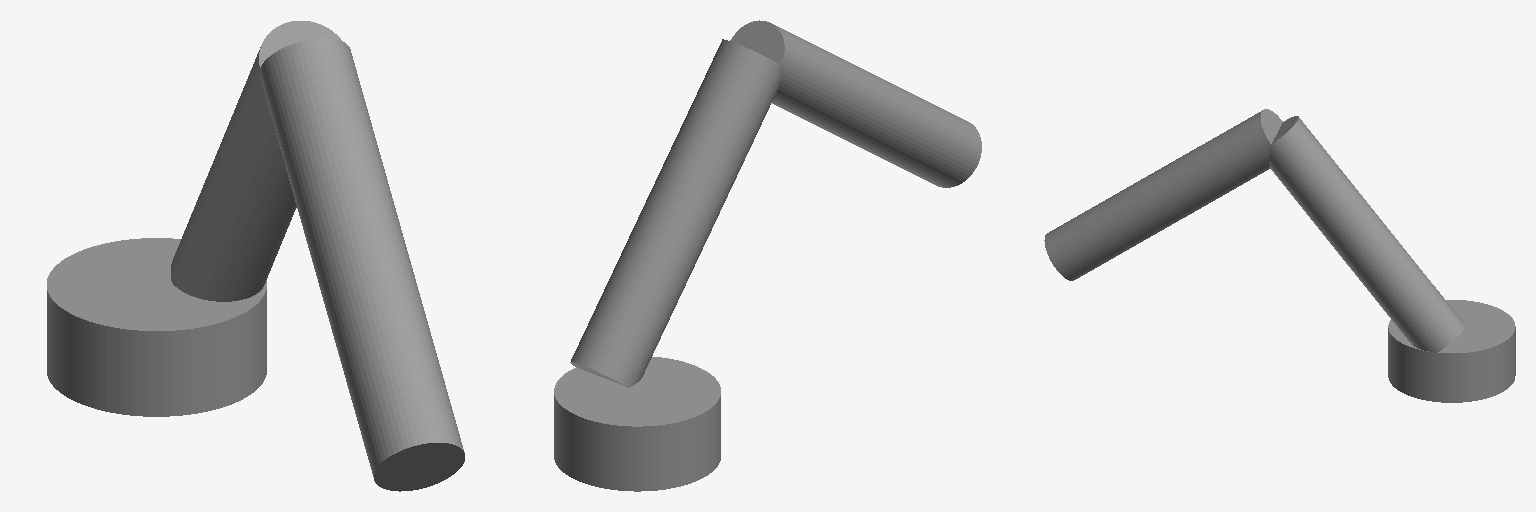
URDF robot description (arm_2_v10):
<?xml version="1.0" ?>
<!-- =================================================================================== -->
<!-- |    This document was autogenerated by xacro from /home/hao/Ubuntu_2/ROS_practice/ros2_ws/src/gazebo_simulator/models/arm_2_v10/urdf/arm_2_v10.xacro | -->
<!-- |    EDITING THIS FILE BY HAND IS NOT RECOMMENDED                                 | -->
<!-- =================================================================================== -->
<robot name="arm_2_v10">
  <material name="silver_default">
    <color rgba="0.700 0.700 0.700 1.000"/>
  </material>
  <material name="_">
    <color rgba="0.6274509803921569 0.6274509803921569 0.6274509803921569 1.0"/>
  </material>
  <transmission name="motor_1_tran">
    <type>transmission_interface/SimpleTransmission</type>
    <joint name="motor_1">
      <hardwareInterface>hardware_interface/EffortJointInterface</hardwareInterface>
    </joint>
    <actuator name="motor_1_actr">
      <hardwareInterface>hardware_interface/EffortJointInterface</hardwareInterface>
      <mechanicalReduction>1</mechanicalReduction>
    </actuator>
  </transmission>
  <transmission name="motor_2_tran">
    <type>transmission_interface/SimpleTransmission</type>
    <joint name="motor_2">
      <hardwareInterface>hardware_interface/EffortJointInterface</hardwareInterface>
    </joint>
    <actuator name="motor_2_actr">
      <hardwareInterface>hardware_interface/EffortJointInterface</hardwareInterface>
      <mechanicalReduction>1</mechanicalReduction>
    </actuator>
  </transmission>
  <transmission name="motor_3_tran">
    <type>transmission_interface/SimpleTransmission</type>
    <joint name="motor_3">
      <hardwareInterface>hardware_interface/EffortJointInterface</hardwareInterface>
    </joint>
    <actuator name="motor_3_actr">
      <hardwareInterface>hardware_interface/EffortJointInterface</hardwareInterface>
      <mechanicalReduction>1</mechanicalReduction>
    </actuator>
  </transmission>
  <link name="base_link">
    <inertial>
      <origin rpy="0 0 0" xyz="0.0 0.0 0.0025"/>
      <mass value="9.8125"/>
      <inertia ixx="0.204448" ixy="0.0" ixz="0.0" iyy="0.204448" iyz="0.0" izz="0.408854"/>
    </inertial>
    <visual>
      <origin rpy="0 0 0" xyz="0 0 0"/>
      <geometry>
        <mesh filename="package://arm_2_v10/meshes/base_link.stl" scale="0.001 0.001 0.001"/>
      </geometry>
      <material name="_"/>
    </visual>
    <collision>
      <origin rpy="0 0 0" xyz="0 0 0"/>
      <geometry>
        <mesh filename="package://arm_2_v10/meshes/base_link.stl" scale="0.001 0.001 0.001"/>
      </geometry>
    </collision>
  </link>
  <link name="arm_link_1_v2_1">
    <inertial>
      <origin rpy="0 0 0" xyz="-4.964936414250037e-18 -3.7238716991499854e-18 0.014999999999999996"/>
      <mass value="0.9063102106524854"/>
      <inertia ixx="0.000346" ixy="0.0" ixz="-0.0" iyy="0.000346" iyz="-0.0" izz="0.000555"/>
    </inertial>
    <visual>
      <origin rpy="0 0 0" xyz="-0.0 -0.0 -0.005"/>
      <geometry>
        <mesh filename="package://arm_2_v10/meshes/arm_link_1_v2_1.stl" scale="0.001 0.001 0.001"/>
      </geometry>
      <material name="_"/>
    </visual>
    <collision>
      <origin rpy="0 0 0" xyz="-0.0 -0.0 -0.005"/>
      <geometry>
        <mesh filename="package://arm_2_v10/meshes/arm_link_1_v2_1.stl" scale="0.001 0.001 0.001"/>
      </geometry>
    </collision>
  </link>
  <link name="arm_link_2_v5_1">
    <inertial>
      <origin rpy="0 0 0" xyz="-0.024950311282444234 -0.04260141994558462 0.05841732248118084"/>
      <mass value="0.8323257036604458"/>
      <inertia ixx="0.001579" ixy="-0.000127" ixz="0.000162" iyy="0.001041" iyz="0.000721" izz="0.000689"/>
    </inertial>
    <visual>
      <origin rpy="0 0 0" xyz="-0.034148 0.007676 -0.035"/>
      <geometry>
        <mesh filename="package://arm_2_v10/meshes/arm_link_2_v5_1.stl" scale="0.001 0.001 0.001"/>
      </geometry>
      <material name="_"/>
    </visual>
    <collision>
      <origin rpy="0 0 0" xyz="-0.034148 0.007676 -0.035"/>
      <geometry>
        <mesh filename="package://arm_2_v10/meshes/arm_link_2_v5_1.stl" scale="0.001 0.001 0.001"/>
      </geometry>
    </collision>
  </link>
  <link name="arm_link_3_v3_1">
    <inertial>
      <origin rpy="0 0 0" xyz="0.0012654354833639293 -0.06276936981888555 -0.043685765516444916"/>
      <mass value="0.8323257036604458"/>
      <inertia ixx="0.001559" ixy="-0.000214" ixz="-0.000157" iyy="0.000655" iyz="-0.000699" izz="0.001094"/>
    </inertial>
    <visual>
      <origin rpy="0 0 0" xyz="0.015753 0.092879 -0.151835"/>
      <geometry>
        <mesh filename="package://arm_2_v10/meshes/arm_link_3_v3_1.stl" scale="0.001 0.001 0.001"/>
      </geometry>
      <material name="_"/>
    </visual>
    <collision>
      <origin rpy="0 0 0" xyz="0.015753 0.092879 -0.151835"/>
      <geometry>
        <mesh filename="package://arm_2_v10/meshes/arm_link_3_v3_1.stl" scale="0.001 0.001 0.001"/>
      </geometry>
    </collision>
  </link>
  <joint name="motor_1" type="continuous">
    <origin rpy="0 0 0" xyz="0.0 0.0 0.005"/>
    <parent link="base_link"/>
    <child link="arm_link_1_v2_1"/>
    <axis xyz="-0.0 0.0 -1.0"/>
  </joint>
  <joint name="motor_2" type="continuous">
    <origin rpy="0 0 0" xyz="0.034148 -0.007676 0.03"/>
    <parent link="arm_link_1_v2_1"/>
    <child link="arm_link_2_v5_1"/>
    <axis xyz="0.975656 -0.219308 -0.0"/>
  </joint>
  <joint name="motor_3" type="continuous">
    <origin rpy="0 0 0" xyz="-0.049901 -0.085203 0.116835"/>
    <parent link="arm_link_2_v5_1"/>
    <child link="arm_link_3_v3_1"/>
    <axis xyz="-0.975656 0.219308 0.0"/>
  </joint>
  <!-- ros2_control plugin config (keep velocity interfaces compatible with existing controllers) -->
  <ros2_control name="GazeboSystem" type="system">
    <hardware>
      <plugin>gz_ros2_control/GazeboSimSystem</plugin>
    </hardware>
    <joint name="motor_1">
      <command_interface name="velocity"/>
      <state_interface name="position"/>
      <state_interface name="velocity"/>
    </joint>
    <joint name="motor_2">
      <command_interface name="velocity"/>
      <state_interface name="position"/>
      <state_interface name="velocity"/>
    </joint>
    <joint name="motor_3">
      <command_interface name="velocity"/>
      <state_interface name="position"/>
      <state_interface name="velocity"/>
    </joint>
  </ros2_control>
  <gazebo>
    <plugin filename="libgz_ros2_control-system.so" name="gz_ros2_control::GazeboSimROS2ControlPlugin">
      <parameters>/home/hao/Ubuntu_2/ROS_practice/ros2_ws/install/gazebo_simulator/share/gazebo_simulator/config/controller_arm_2_v10.yaml</parameters>
    </plugin>
  </gazebo>
  <gazebo>
    <plugin filename="libgz-sim-pose-publisher-system.so" name="gz::sim::systems::PosePublisher">
      <publish_link_pose>true</publish_link_pose>
      <publish_model_pose>true</publish_model_pose>
      <use_pose_vector_msg>true</use_pose_vector_msg>
      <update_frequency>50</update_frequency>
    </plugin>
  </gazebo>
</robot>

--- What the picture shows (computed from the rendered views, not written in the file) ---
The picture shows the robot from 3 angles, left to right: view 1: azimuth 30°, elevation 25°; view 2: azimuth 150°, elevation 25°; view 3: azimuth 270°, elevation 25°; orthographic projection.
Robot: arm_2_v10 — 4 links, 3 joints (3 continuous); root link base_link; default pose: every joint at zero.
Links seen in each view (by area): view 1: arm_link_3_v3_1, arm_link_1_v2_1, arm_link_2_v5_1; view 2: arm_link_2_v5_1, arm_link_1_v2_1, arm_link_3_v3_1; view 3: arm_link_2_v5_1, arm_link_3_v3_1, arm_link_1_v2_1.
Boxes of the visible links, box(x1,y1,x2,y2) form: arm_link_3_v3_1: box(260, 38, 464, 491); arm_link_1_v2_1: box(47, 238, 266, 416); arm_link_2_v5_1: box(171, 21, 341, 301); arm_link_2_v5_1: box(570, 39, 781, 387); arm_link_1_v2_1: box(554, 357, 720, 491); arm_link_3_v3_1: box(730, 20, 981, 187); arm_link_2_v5_1: box(1269, 116, 1464, 352); arm_link_3_v3_1: box(1044, 109, 1282, 280); arm_link_1_v2_1: box(1388, 300, 1515, 402).
Bounding box of the posed robot: 0.0776 × 0.2593 × 0.159 m (x, y, z).
3 mesh visuals loaded from 4 distinct referenced files (3 binary STL); not drawn: 1 (reference not matched to a file when rendering).
